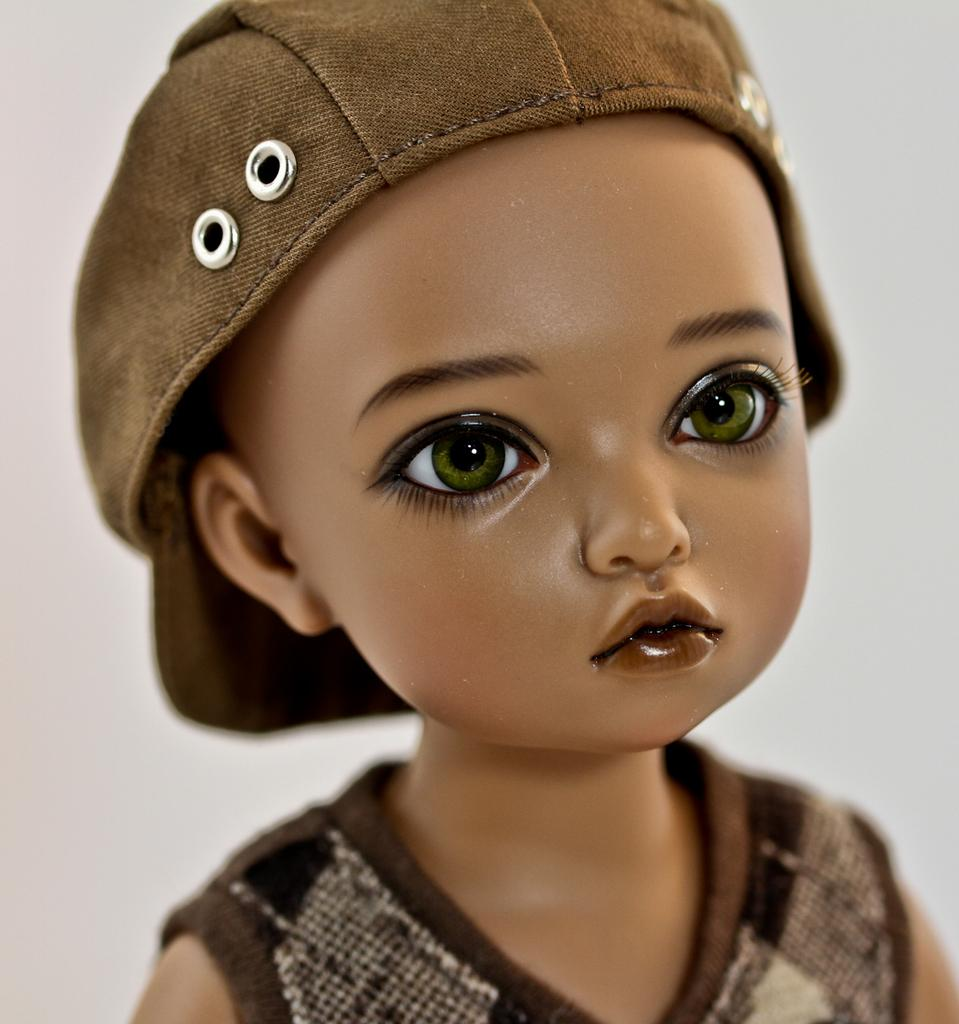Hat: (72, 0, 847, 741)
